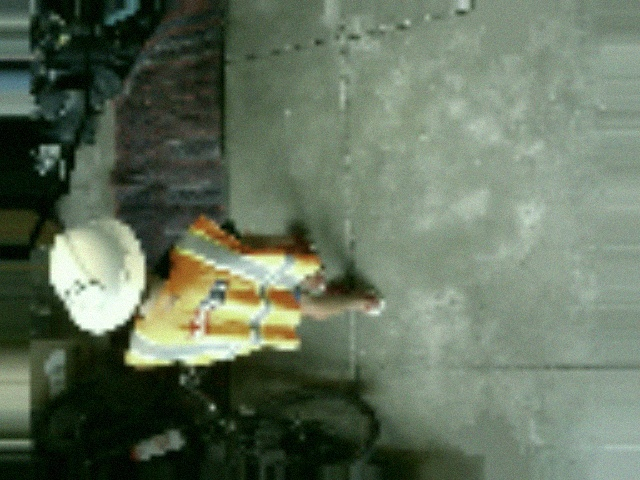three: (66, 279, 104, 310)
